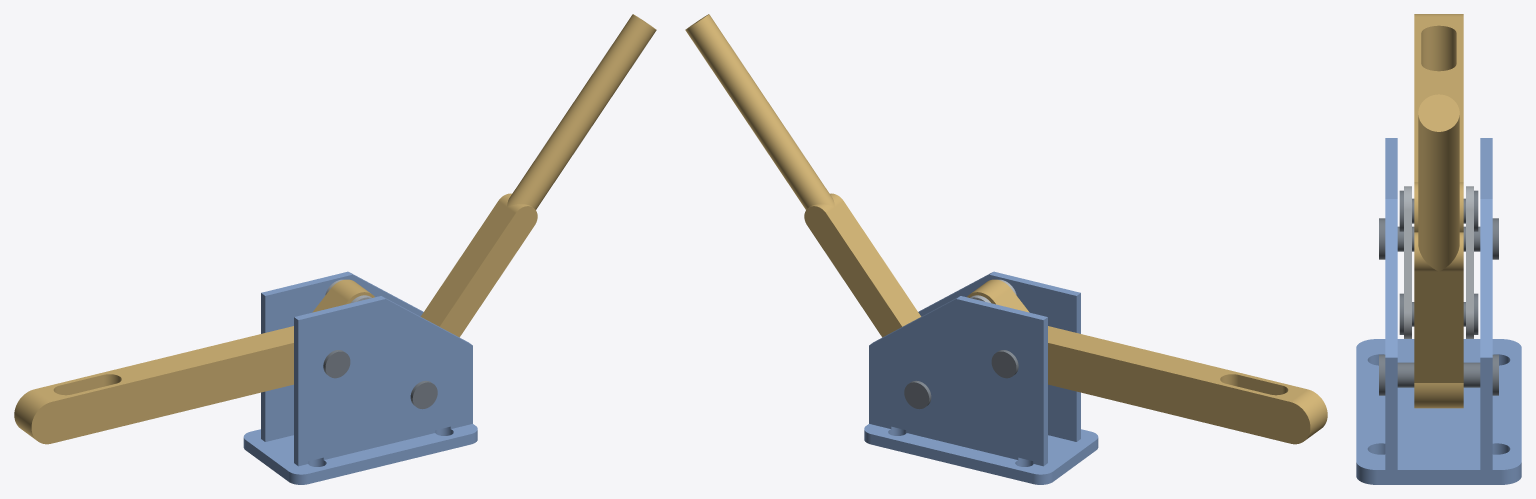
Rendered from step_21.glb.
The picture shows the model from 3 angles, left to right: view 1: azimuth 30°, elevation 25°; view 2: azimuth 150°, elevation 25°; view 3: azimuth 270°, elevation 25°; orthographic projection. The views are drawn at different scales.
Parts seen in each view (by area): view 1: part__base, part__clamp arm, part__handle; view 2: part__base, part__clamp arm, part__handle; view 3: part__base, part__handle, part__clamp arm, part__pivot pin B, part__link plate 1, part__link plate 2, part__pivot pin A, part__link pin D, part__link pin C.
Boxes of the visible parts, box(x1,y1,x2,y2) form: part__base: box(243, 271, 477, 484); part__clamp arm: box(14, 279, 374, 444); part__handle: box(420, 14, 656, 337); part__base: box(864, 271, 1098, 484); part__clamp arm: box(967, 279, 1327, 444); part__handle: box(685, 14, 921, 337); part__base: box(1356, 138, 1521, 484); part__handle: box(1414, 94, 1463, 408); part__clamp arm: box(1414, 14, 1463, 232); part__pivot pin B: box(1379, 354, 1498, 395); part__link plate 1: box(1466, 186, 1473, 338); part__link plate 2: box(1404, 186, 1411, 338); part__pivot pin A: box(1379, 218, 1498, 259); part__link pin D: box(1399, 190, 1478, 231); part__link pin C: box(1399, 293, 1478, 334).
Bounding box in the file's own units: 253 × 138 × 40.
